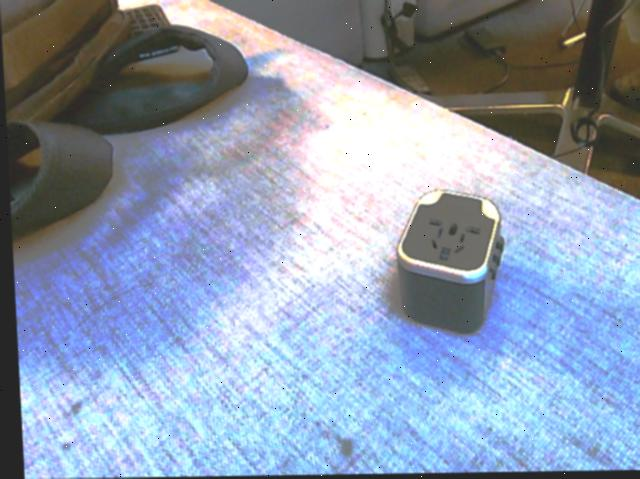adapter: (389, 188, 505, 336)
